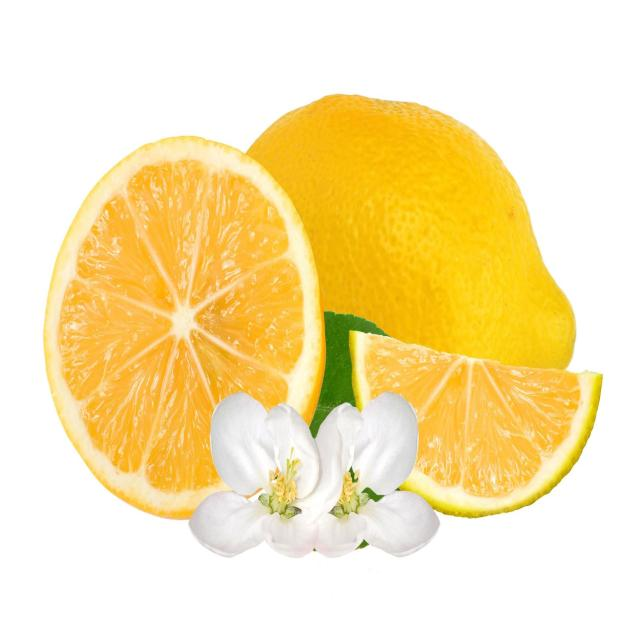lemon: (36, 128, 331, 525), (344, 322, 608, 519)
